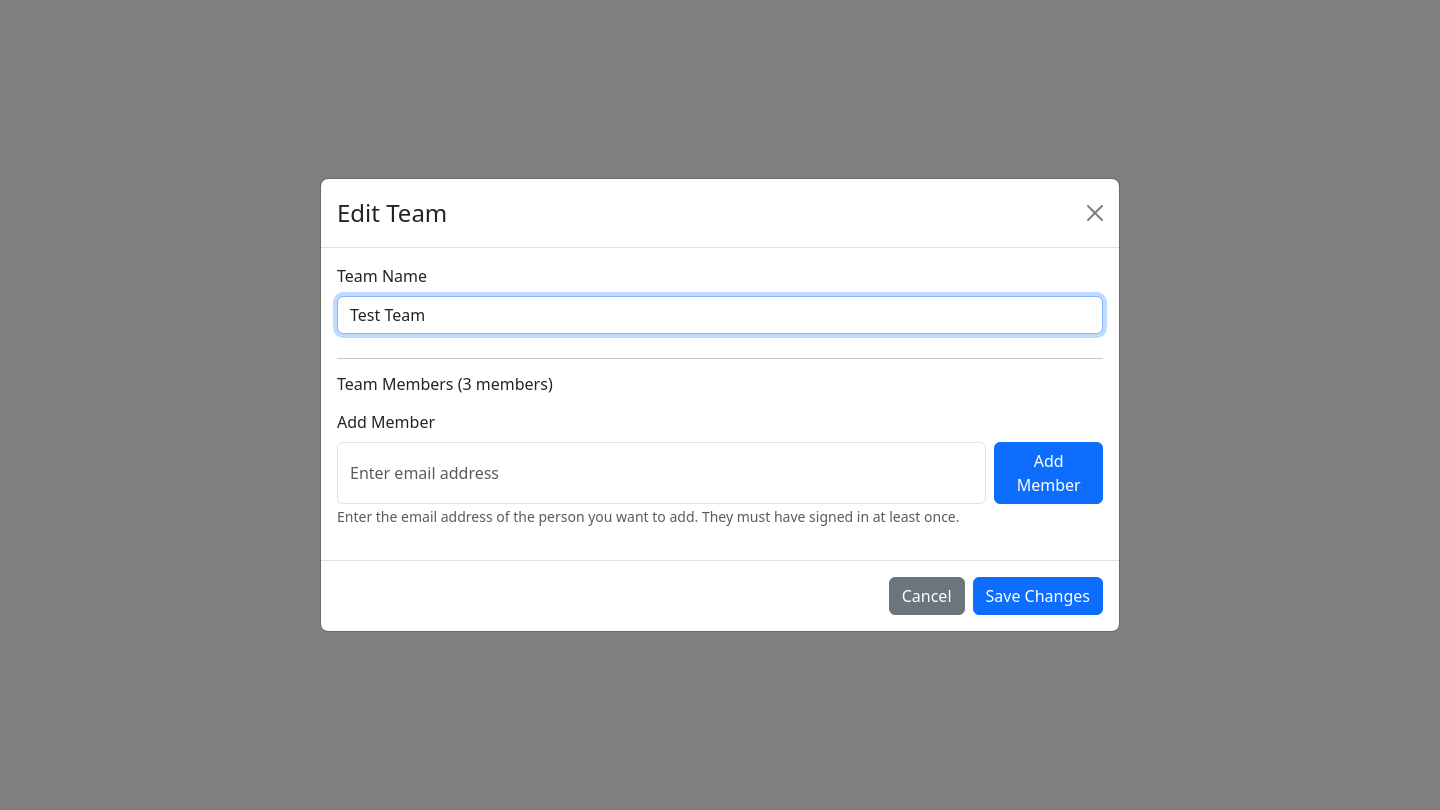
EditTeamModal › Adding Members › should show error when email is empty
The image size is (1440, 810).
Check: the heading "Team Members (3 members)" is shown, box [337,373,553,395]
Click the button "Add Member" at (1049, 473), box [994,442,1103,504]
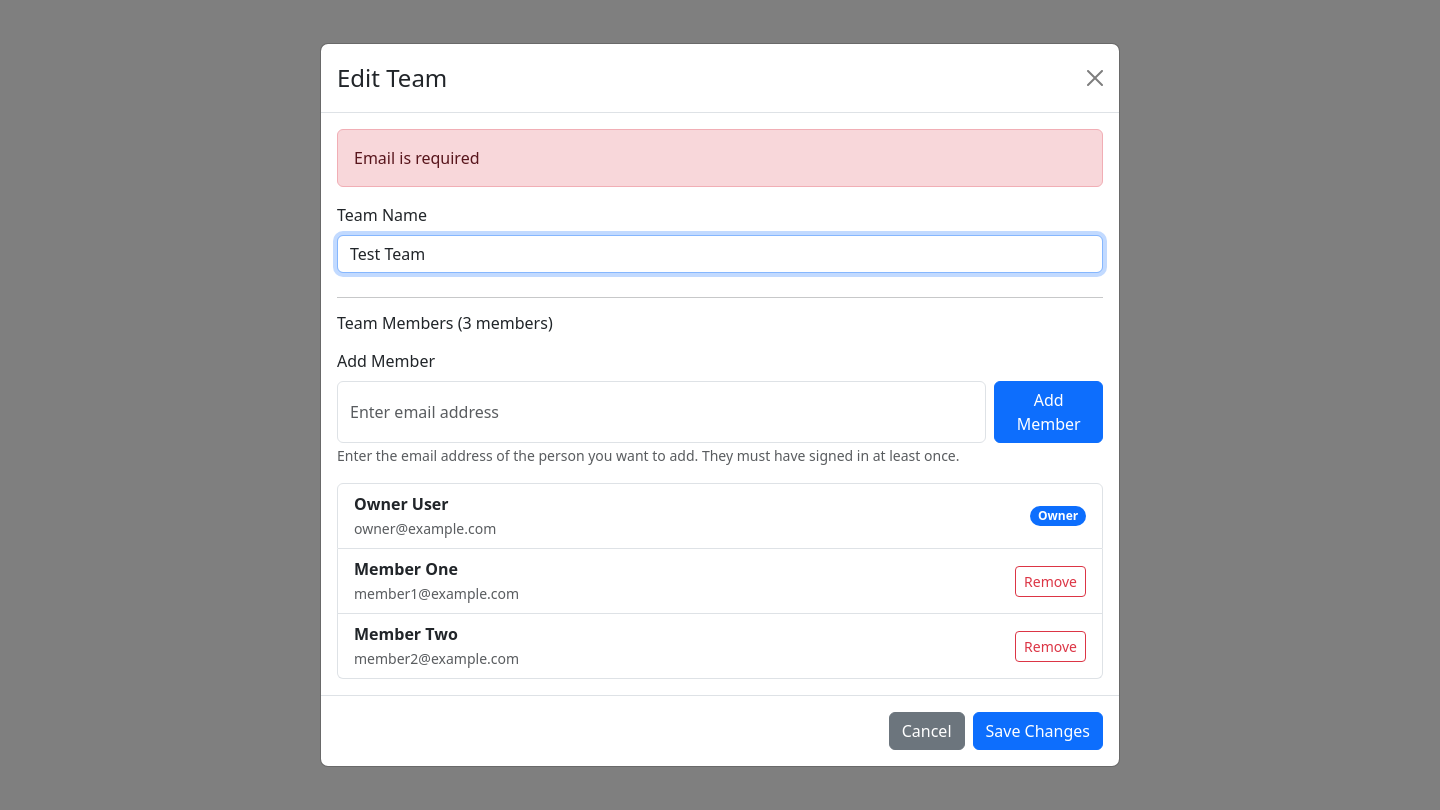
Check: the text "Email is required" is shown, box [337,129,1103,187]
